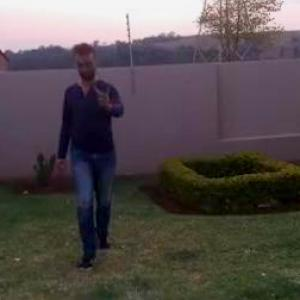takeoff-hand: (88, 74, 123, 113)
